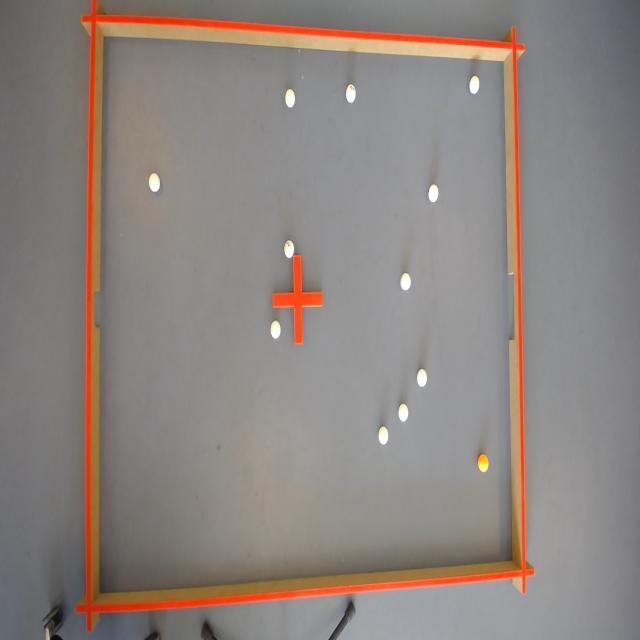orange: (476, 454, 488, 472)
white: (468, 75, 482, 98), (282, 87, 296, 110), (148, 170, 162, 192), (268, 320, 281, 340), (377, 426, 389, 446), (416, 368, 428, 388), (400, 270, 412, 290), (397, 402, 409, 422), (284, 238, 296, 258), (345, 84, 356, 105), (428, 184, 440, 203)
